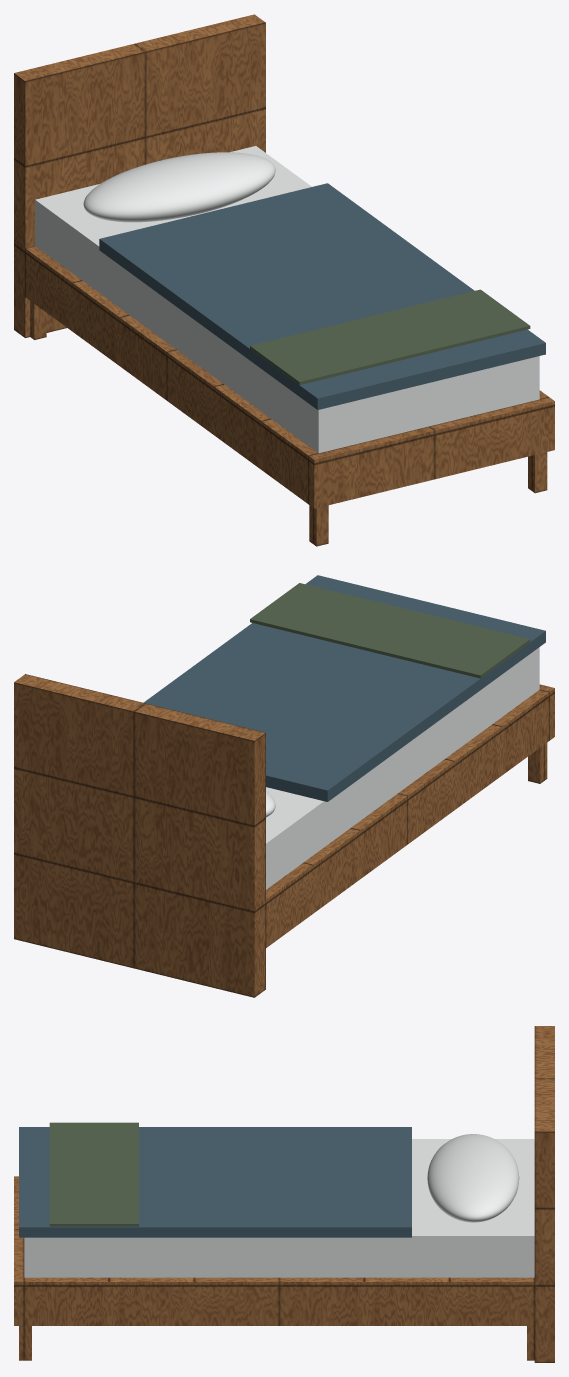
Rendered from Agy_egyszemelyes_90.obj.
3 renders of one model, top to bottom at view 1: azimuth 30°, elevation 25°; view 2: azimuth 150°, elevation 25°; view 3: azimuth 270°, elevation 25°, orthographic. The views are drawn at different scales.
Bounding box in the file's own units: 0.98 × 1 × 2.12.
4 materials, 1 textured.
